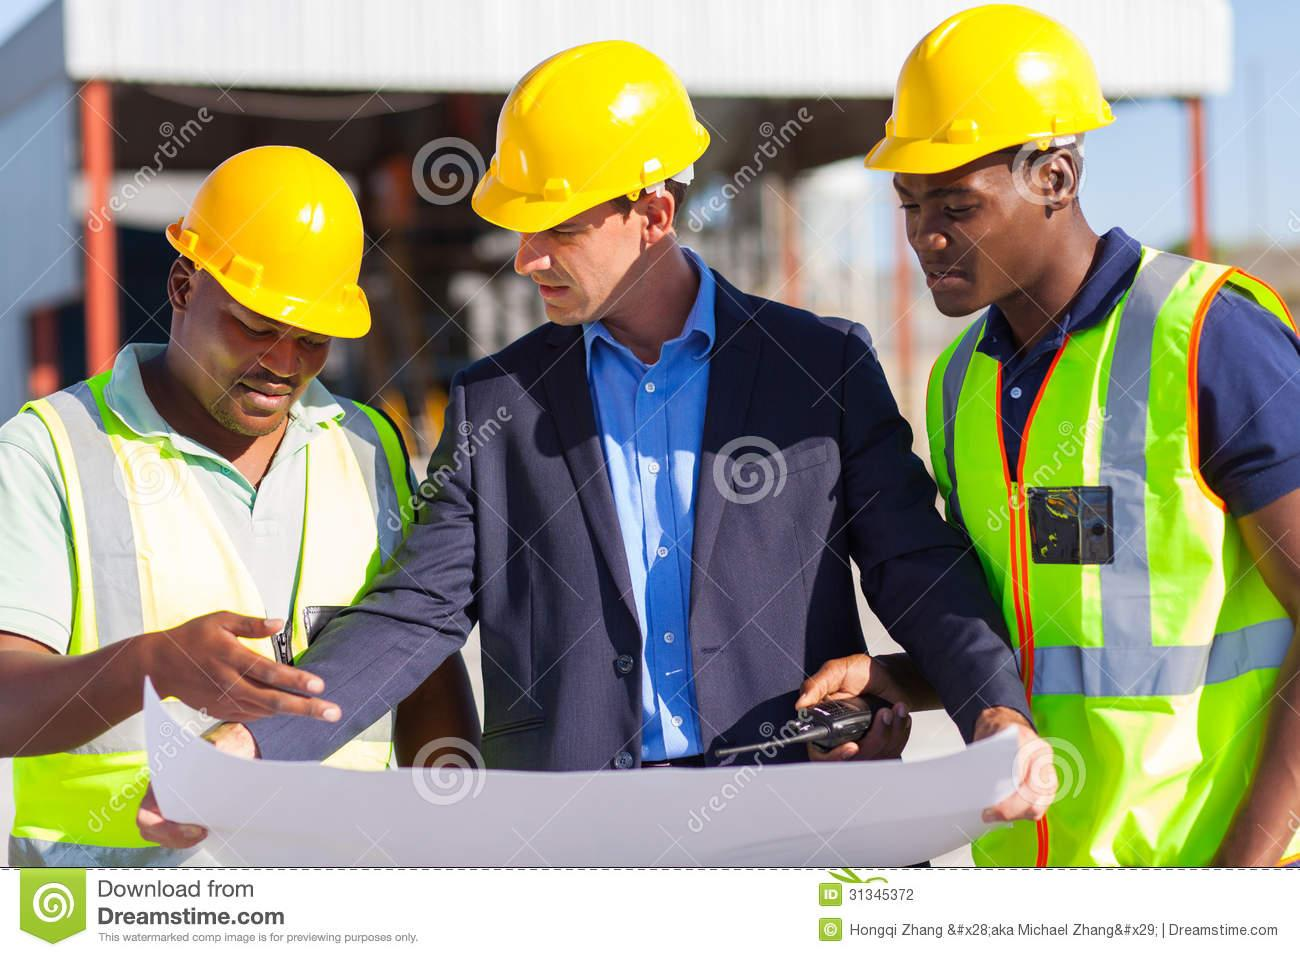helmet: (484, 40, 716, 231), (863, 6, 1115, 178), (167, 143, 373, 336)
